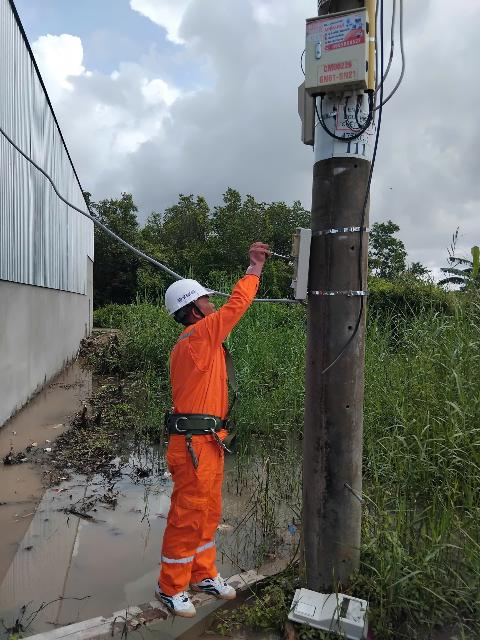gloves: (232, 232, 274, 289)
harness: (144, 403, 256, 453)
helmet: (154, 264, 217, 327)
shoes: (191, 559, 239, 603), (158, 573, 202, 618)
